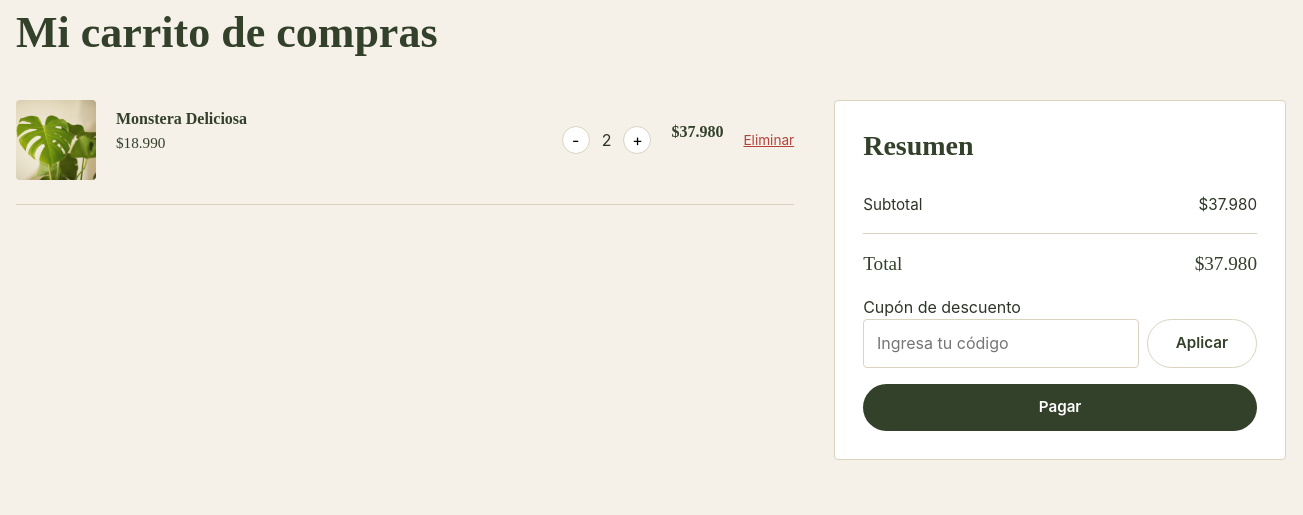
Carrito › aplica el cupón FLORAE10 sin distinguir mayúsculas y descuenta el 10%
The image size is (1303, 515).
In the field labelled "Cupón de descuento": point(1001, 343) [863,319,1139,368], type "florae10"
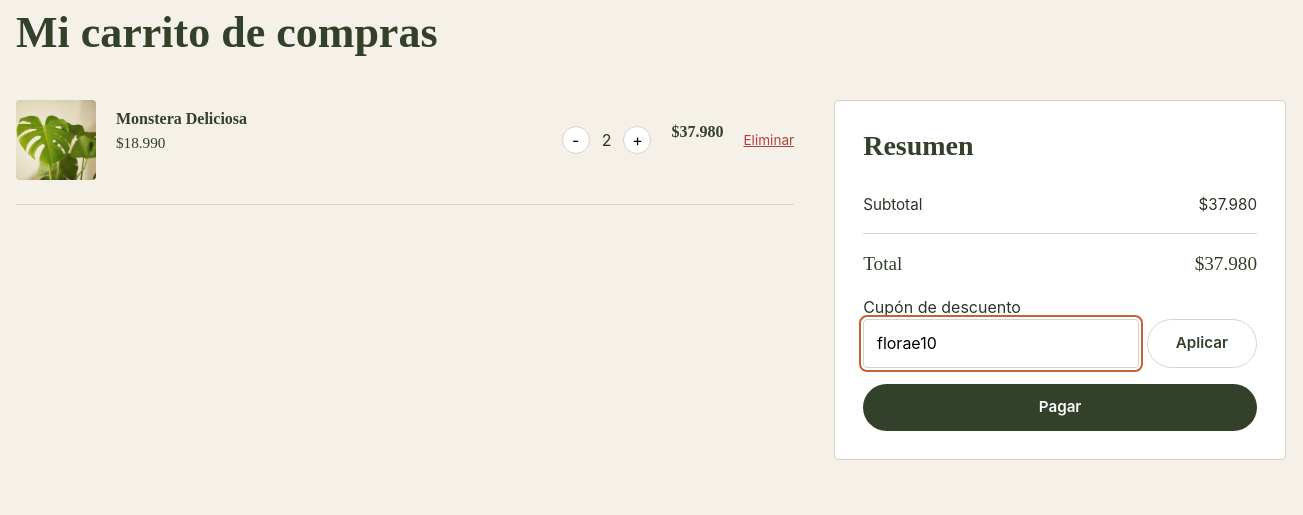
Click the button "Aplicar": point(1202, 343) [1147,319,1257,368]
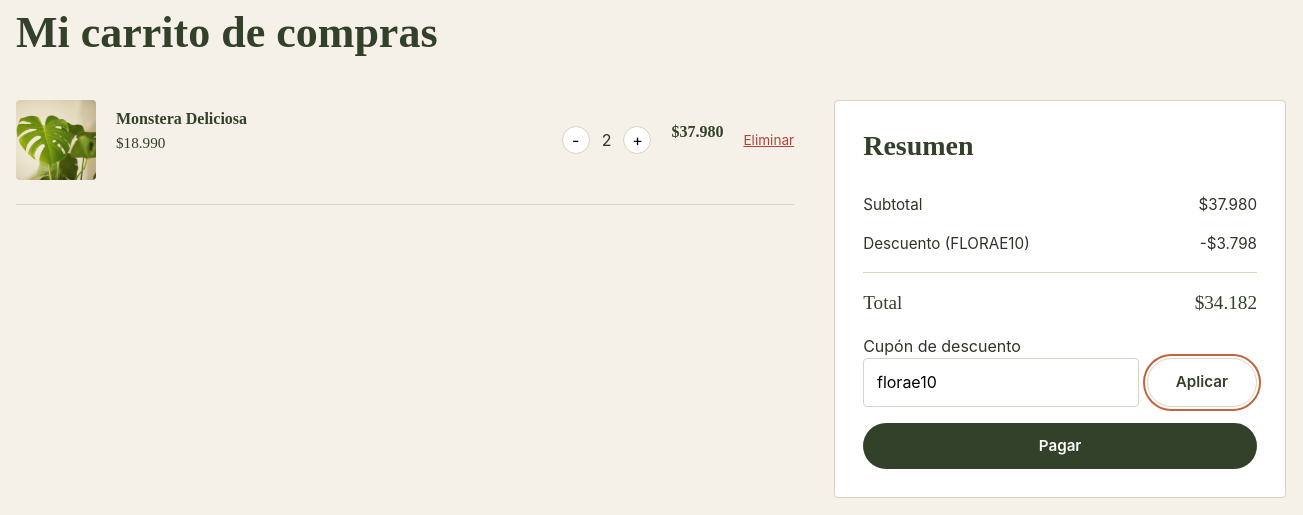
Check: the text "Descuento (FLORAE10)" is shown, box [863,233,1030,256]
Check: the text with test id "carrito-total" reads "$34.182", box [1195,292,1257,313]
